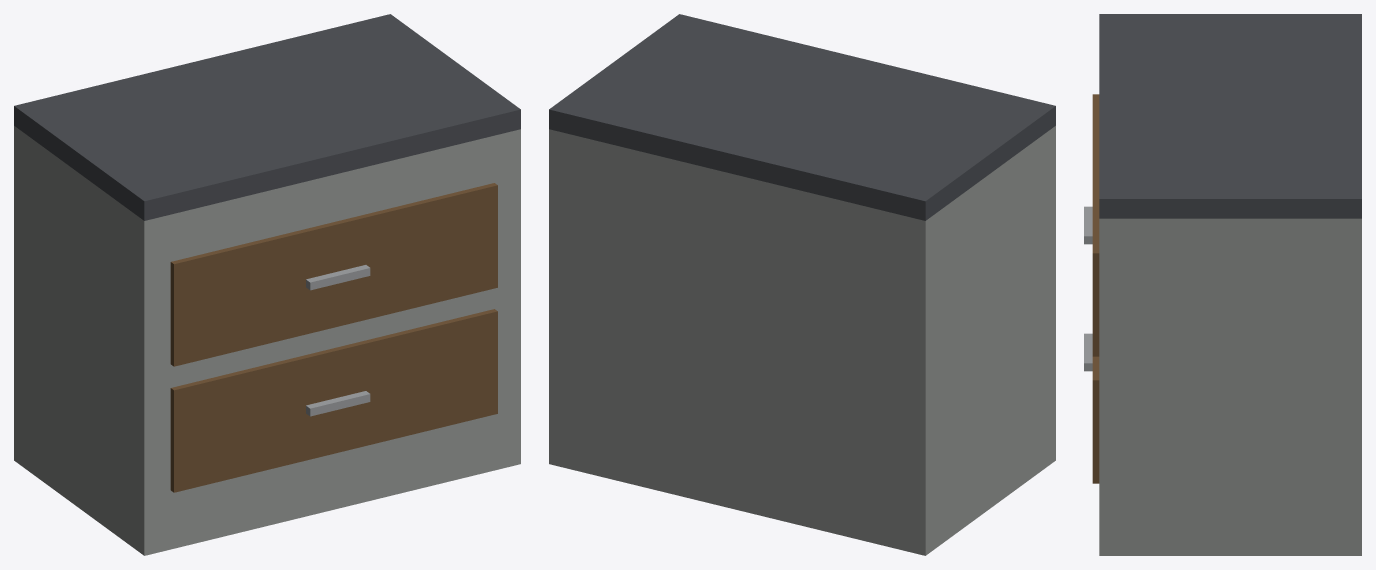
Rendered from counter_drawer.glb.
3 renders of one model, left to right at view 1: azimuth 30°, elevation 25°; view 2: azimuth 150°, elevation 25°; view 3: azimuth 270°, elevation 25°, orthographic.
Visible parts, largest first — view 1: counter_drawer; view 2: counter_drawer; view 3: counter_drawer.
Boxes of the visible parts, x1,y1,x2,y2 form: counter_drawer: [14, 14, 520, 555]; counter_drawer: [549, 14, 1055, 555]; counter_drawer: [1084, 14, 1361, 555].
Bounding box in the file's own units: 1 × 0.9 × 0.635.
